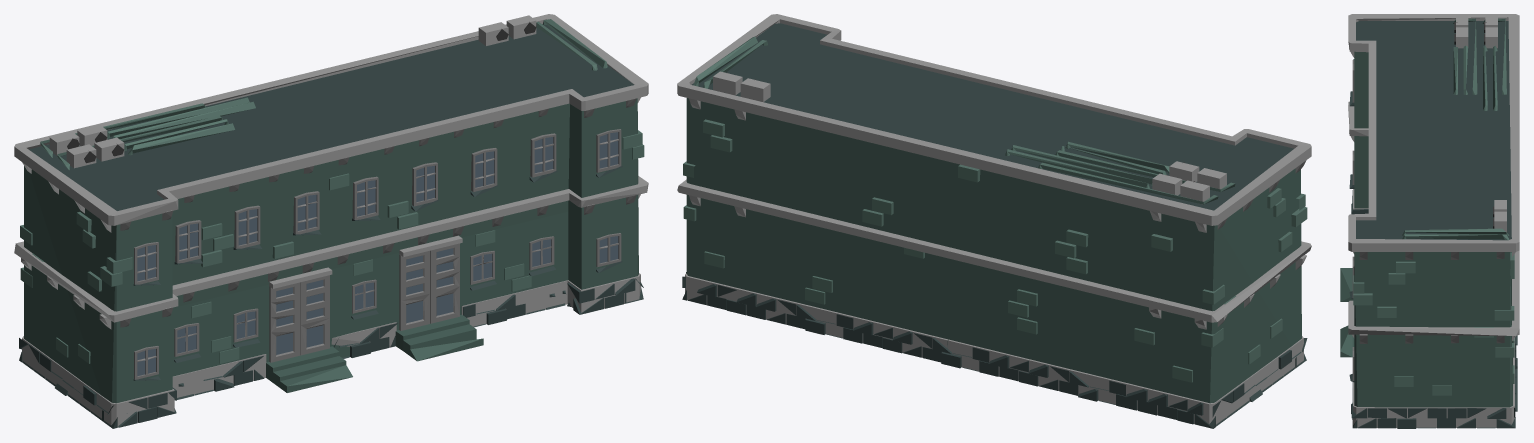
File: 2Story_Wide_2Doors.glb
3 views of the same model, side by side, from view 1: azimuth 30°, elevation 25°; view 2: azimuth 150°, elevation 25°; view 3: azimuth 270°, elevation 25° (orthographic). The views are drawn at different scales.
Parts seen in each view (by area): view 1: 2Story_Wide_2Doors_Mat; view 2: 2Story_Wide_2Doors_Mat; view 3: 2Story_Wide_2Doors_Mat.
Part boxes in pixels (bbox=[...]): 2Story_Wide_2Doors_Mat: bbox=[14, 14, 648, 428]; 2Story_Wide_2Doors_Mat: bbox=[677, 14, 1311, 428]; 2Story_Wide_2Doors_Mat: bbox=[1340, 14, 1519, 428].
Bounding box in the file's own units: 6.83 × 2.73 × 2.26.
